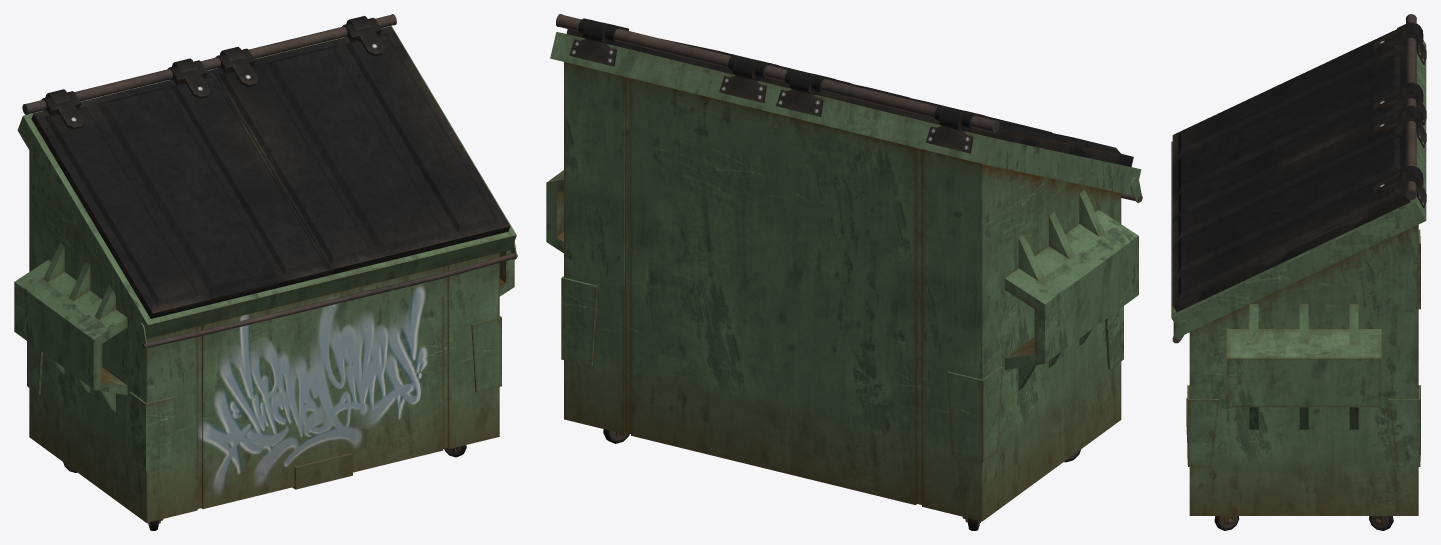
File: can.glb
3 views of the same model, side by side, from view 1: azimuth 30°, elevation 25°; view 2: azimuth 150°, elevation 25°; view 3: azimuth 270°, elevation 25° (orthographic). The views are drawn at different scales.
Visible parts, largest first — view 1: can, topleft, topright; view 2: can, topleft, topright; view 3: can, topright, topleft.
Boxes of the visible parts, <box> form: can: <box>14,14,517,530</box>; topleft: <box>31,60,331,318</box>; topright: <box>212,17,510,275</box>; can: <box>546,14,1142,530</box>; topleft: <box>778,69,1133,166</box>; topright: <box>566,18,909,97</box>; can: <box>1171,14,1426,530</box>; topright: <box>1172,105,1417,312</box>; topleft: <box>1172,22,1417,219</box>.
Size of the model in its own units: 4.15 by 3.45 by 2.23.
1 material, 1 textured.
